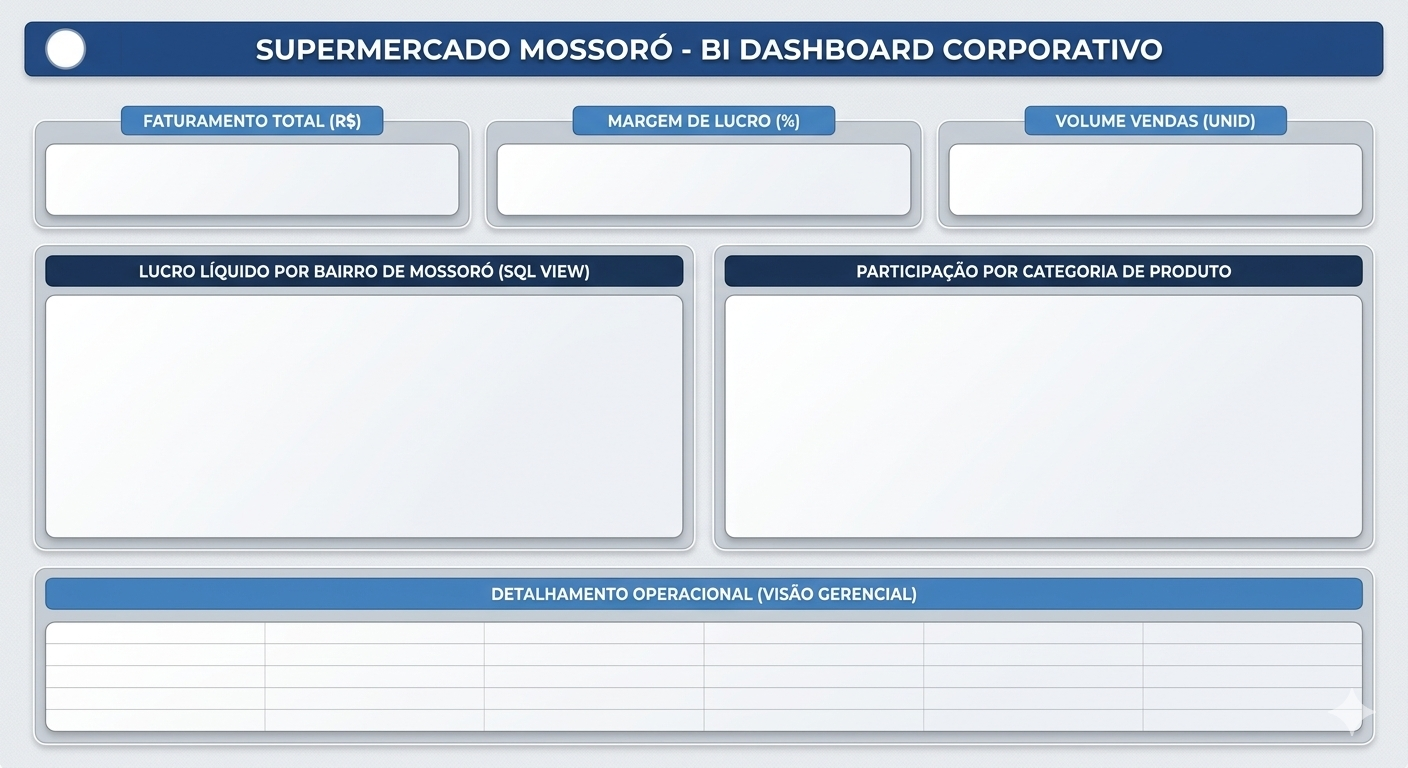

The page's visual inventory and layout, read from the dashboard file:
{"tool":"powerbi","page":{"name":"Página 1","canvas":[1920,1080],"ordinal":0},"visuals":[{"type":"cardVisual","fields":{"Data":["Sum(vw_dashboard_vendas.faturamento_total)"]},"box":[101.5,183.6,447.1,144.7],"z":0},{"type":"cardVisual","fields":{"Data":["vw_dashboard_vendas.Margem Lucro %"]},"box":[693.5,158,540.1,195.8],"z":1},{"type":"cardVisual","fields":{"Data":["vw_dashboard_vendas.Total Unidades Vendidas"]},"box":[1292.6,184,627.4,127.4],"z":2},{"type":"clusteredBarChart","fields":{"Category":["vw_dashboard_vendas.bairro"],"Y":["Sum(vw_dashboard_vendas.lucro_liquido)"]},"box":[160.8,412.5,627.9,321.5],"z":4},{"type":"treemap","fields":{"Group":["vw_dashboard_vendas.categoria"],"Values":["Sum(vw_dashboard_vendas.faturamento_total)"]},"box":[1019.1,439.8,812.9,294.2],"z":5}]}

Visuals, with their boxes on the page's 1920x1080 design canvas (x1, y1, x2, y2). These are canvas units, not pixel positions in the 1408x768 screenshot, which may show the page scaled, cropped or inside an application window:
cardVisual - Sum(vw_dashboard_vendas.faturamento_total): [102,184,549,328]
cardVisual - vw_dashboard_vendas.Margem Lucro %: [694,158,1234,354]
cardVisual - vw_dashboard_vendas.Total Unidades Vendidas: [1293,184,1920,311]
clusteredBarChart - vw_dashboard_vendas.bairro x Sum(vw_dashboard_vendas.lucro_liquido): [161,412,789,734]
treemap - vw_dashboard_vendas.categoria x Sum(vw_dashboard_vendas.faturamento_total): [1019,440,1832,734]
